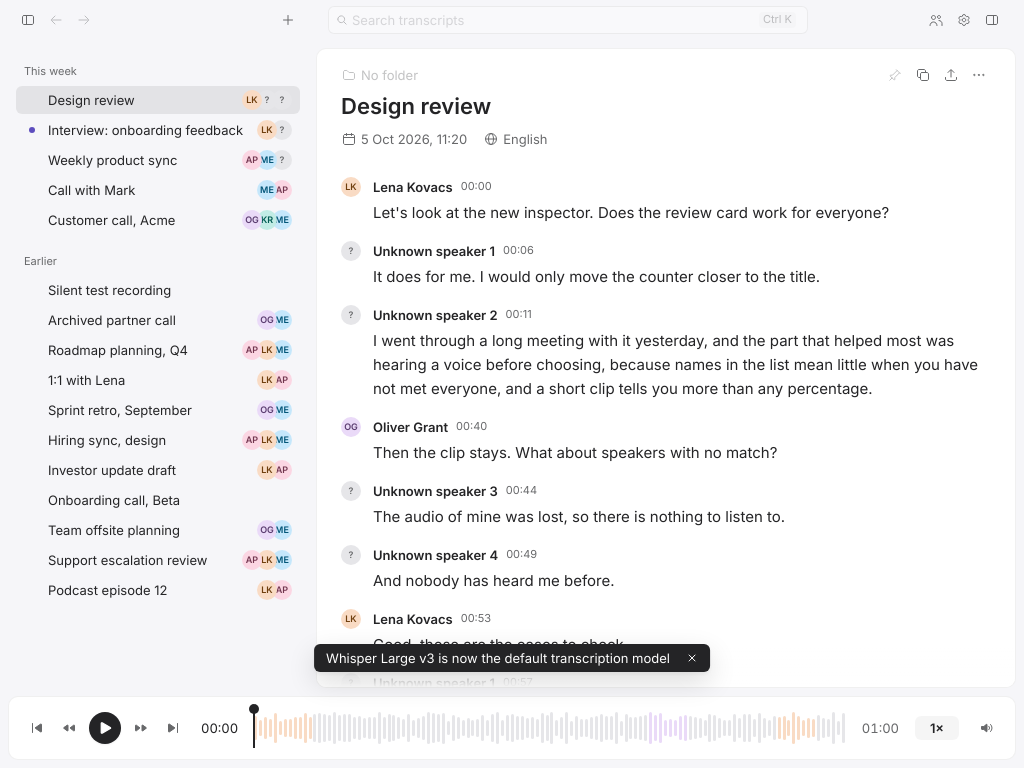
it: a computer with no system audio says so, and the field is off
Expected: the element "This week" is shown, [16,60,300,234]
Click the button named "Settings". click: (964, 20)
box: [952,8,976,32]
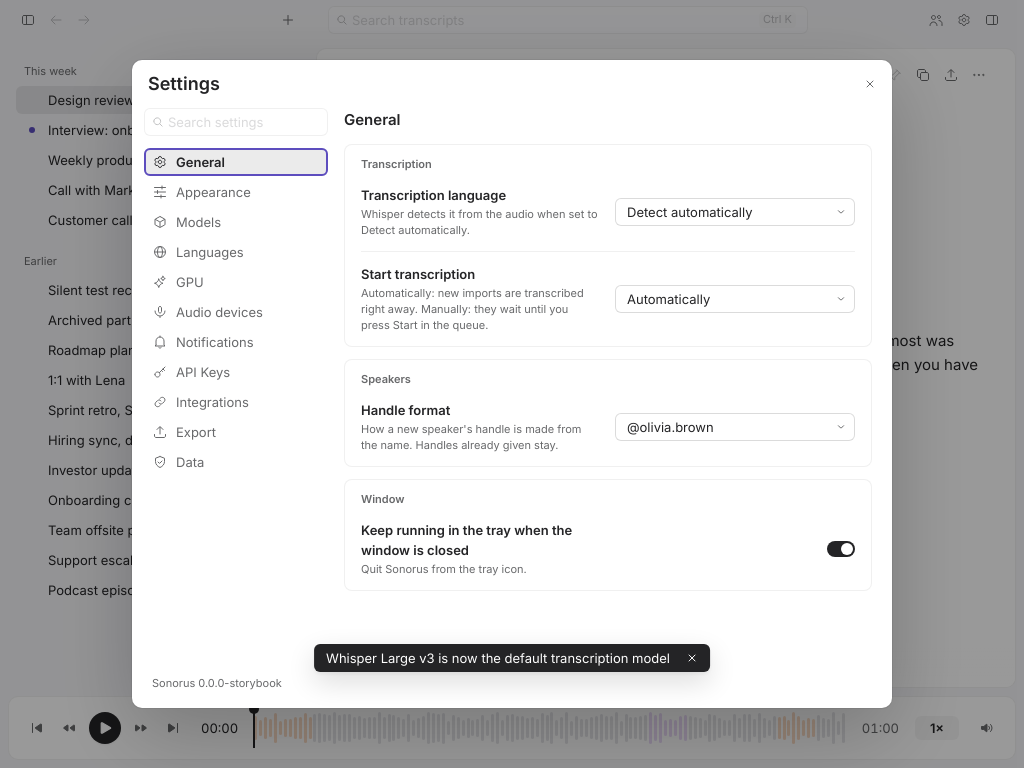
Click the tab "Audio devices". click: (236, 312)
box: [144,298,328,326]
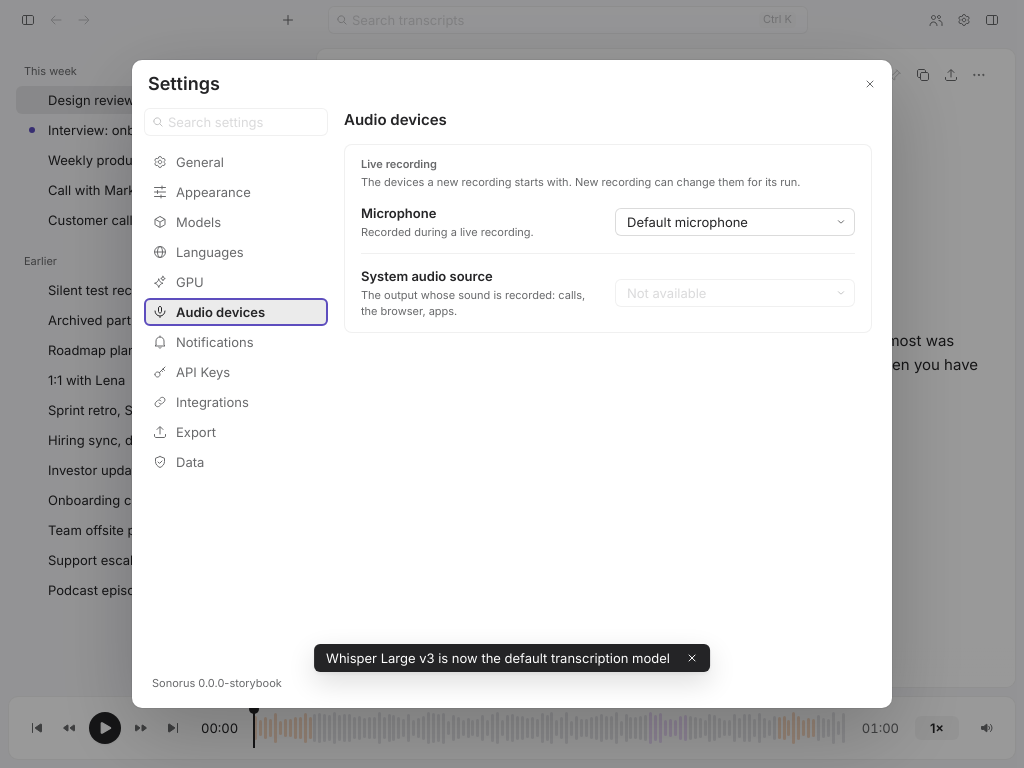
Expected: the dropdown named "System audio source" reads "Not available", [615,279,855,307]
Expected: the dropdown named "System audio source" is disabled, [615,279,855,307]
